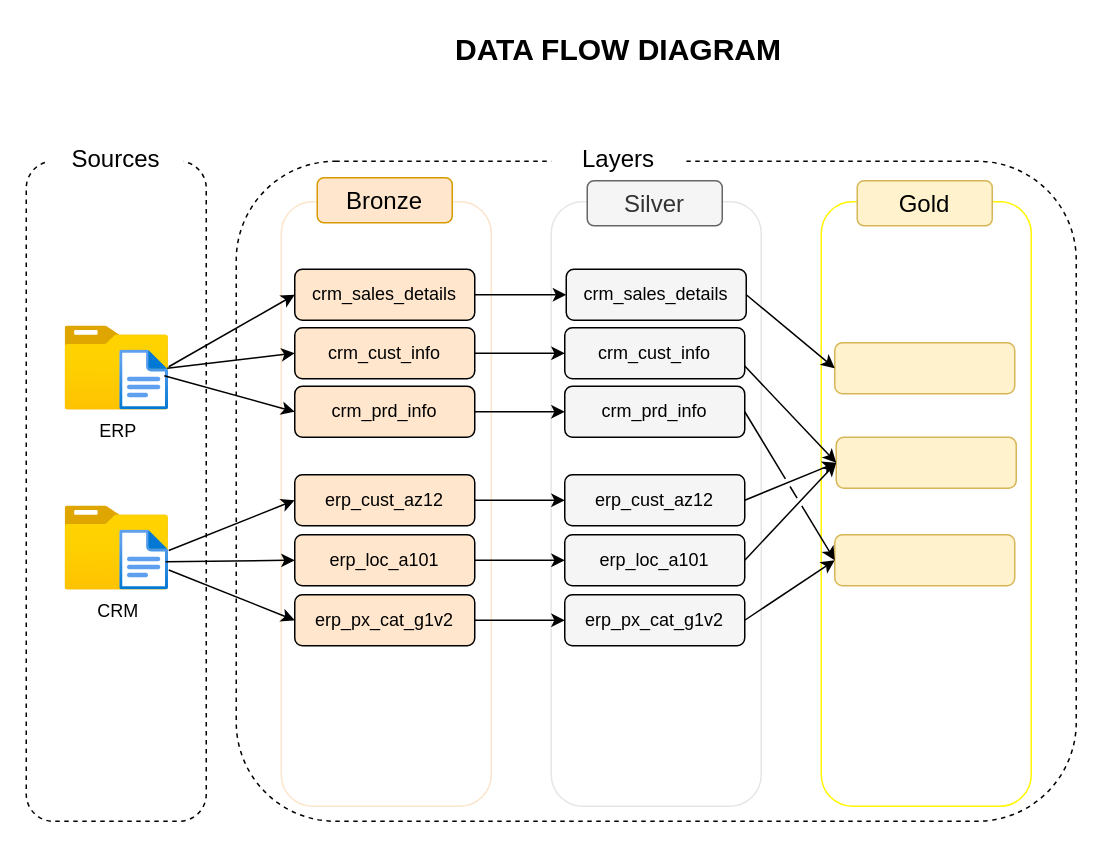
Some shapes in this 1103 by 848 pixel diagram are drawn without their labels. The centre of each missing label's shape, as x and y in pixels:
gold.dm_customers: [925,462]
gold.dm_products: [924,559]
gold.fact_sales: [924,367]
